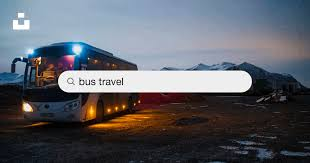bus: (10, 41, 141, 124)
